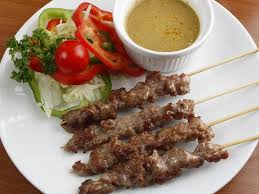sate: (37, 55, 239, 192)
